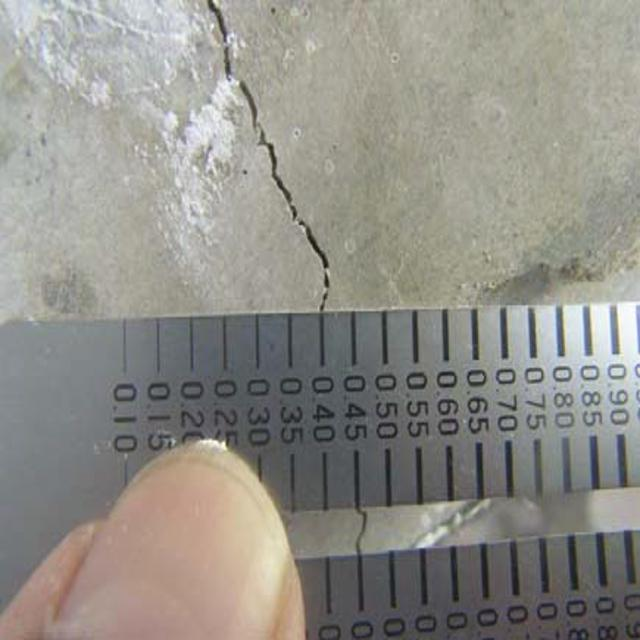crack: (202, 6, 342, 311), (334, 504, 382, 560)
